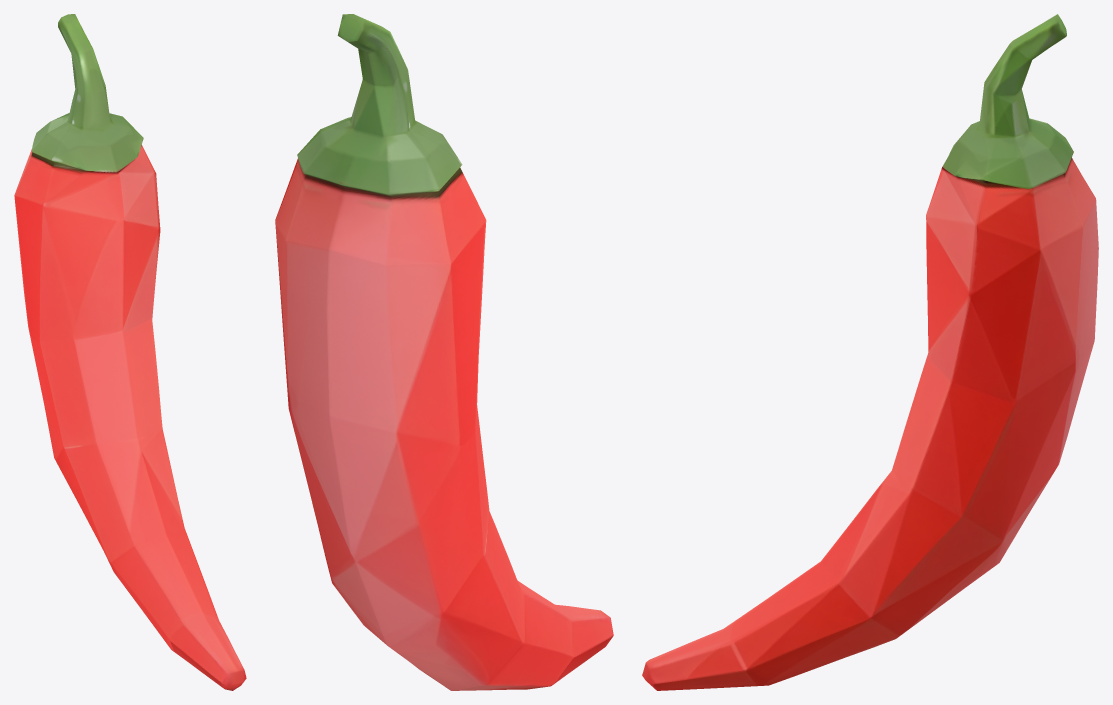
Rendered from base_basic_shaded.fbx.
The picture shows the model from 3 angles, left to right: view 1: azimuth 30°, elevation 25°; view 2: azimuth 150°, elevation 25°; view 3: azimuth 270°, elevation 25°; orthographic projection. The views are drawn at different scales.
Visible parts, largest first — view 1: model; view 2: model; view 3: model.
Boxes of the visible parts, box(x1,y1,x2,y2) form: model: box(14, 14, 246, 690); model: box(275, 14, 613, 690); model: box(642, 14, 1098, 690).
Bounding box in the file's own units: 39.88 × 175 × 107.
